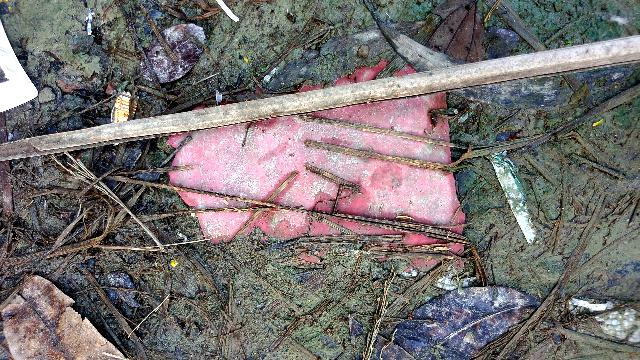hardplastic: (174, 61, 467, 286)
